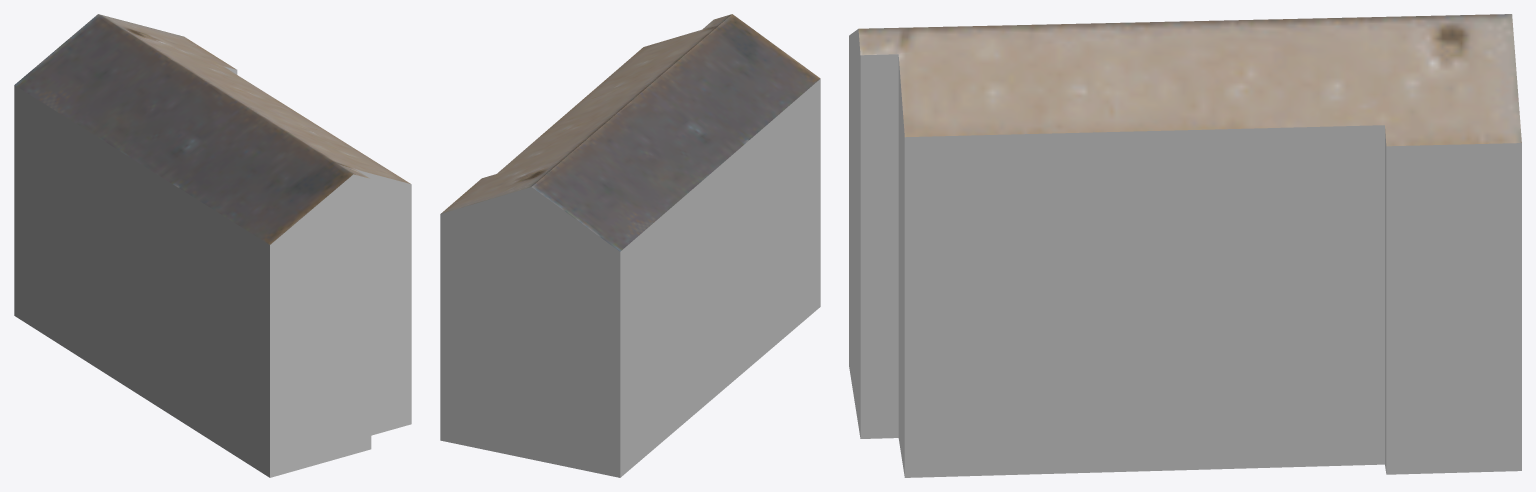
Rendered from DEBW_0010007Tx6Q.gltf.
The picture shows the model from 3 angles, left to right: view 1: azimuth 30°, elevation 25°; view 2: azimuth 150°, elevation 25°; view 3: azimuth 270°, elevation 25°; orthographic projection. The views are drawn at different scales.
Visible parts, largest first — view 1: Z_UP; view 2: Z_UP; view 3: Z_UP.
Boxes of the visible parts, x1,y1,x2,y2 form: Z_UP: [14, 14, 411, 477]; Z_UP: [440, 14, 820, 477]; Z_UP: [849, 14, 1521, 477].
Bounding box in the file's own units: 12.86 × 18.41 × 28.24.
Materials: 2 (1 with a texture image).
